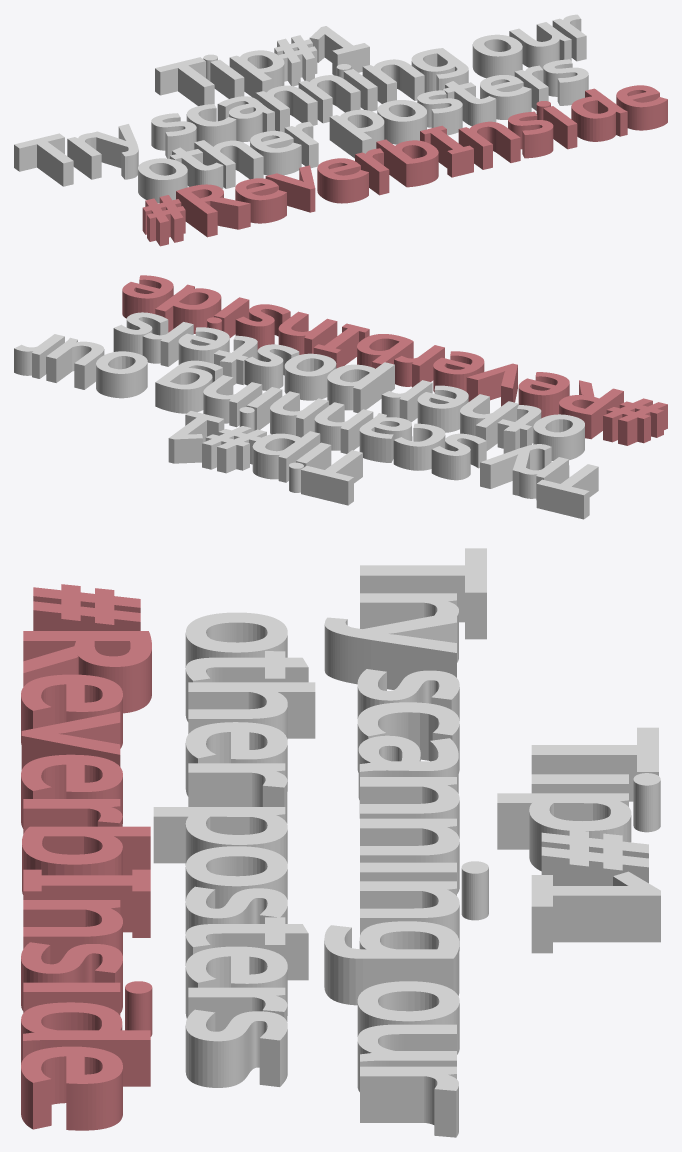
File: asset.glb
The picture shows the model from 3 angles, top to bottom: view 1: azimuth 30°, elevation 25°; view 2: azimuth 150°, elevation 25°; view 3: azimuth 270°, elevation 25°; orthographic projection. The views are drawn at different scales.
Visible parts, largest first — view 1: 3D_Text_-_e (×3), 3D_Text_1_-_n (×3), 3D_Text_1_-_o (×3), 3D_Text_1_-_s (×3), 3D_Text_1_-_T (×2), 3D_Text_1_-_p (×2), 3D_Text_1_-_r (×4), 3D_Text_1_-_e (×2), 3D_Text_-_R, 3D_Text_1_-_t (×2), 3D_Text_-_b, 3D_Text_-_d (+16 smaller); view 2: 3D_Text_1_-_o (×3), 3D_Text_1_-_n (×3), 3D_Text_1_-_s (×3), 3D_Text_1_-_r (×4), 3D_Text_1_-_p (×2), 3D_Text_-_e (×3), 3D_Text_1_-_T (×2), 3D_Text_1_-_e (×2), 3D_Text_1_-_t (×2), 3D_Text_1_-_g, 3D_Text_-_, 3D_Text_1_-_ (+16 smaller); view 3: 3D_Text_-_e (×3), 3D_Text_1_-_r (×4), 3D_Text_1_-_s (×3), 3D_Text_1_-_n (×3), 3D_Text_1_-_o (×3), 3D_Text_1_-_p (×2), 3D_Text_1_-_T (×2), 3D_Text_1_-_g, 3D_Text_1_-_1, 3D_Text_1_-_e (×2), 3D_Text_1_-_y, 3D_Text_1_-_t (×2) (+16 smaller).
Boxes of the visible parts, bbox=[...] form: 3D_Text_-_e (×3): bbox=[235, 85, 667, 223]; 3D_Text_1_-_n (×3): bbox=[255, 59, 424, 132]; 3D_Text_1_-_o (×3): bbox=[138, 34, 522, 203]; 3D_Text_1_-_s (×3): bbox=[151, 59, 588, 158]; 3D_Text_1_-_T (×2): bbox=[14, 57, 214, 186]; 3D_Text_1_-_p (×2): bbox=[229, 50, 384, 158]; 3D_Text_1_-_r (×4): bbox=[67, 14, 586, 179]; 3D_Text_1_-_e (×2): bbox=[250, 75, 531, 175]; 3D_Text_-_R: bbox=[176, 184, 250, 237]; 3D_Text_1_-_t (×2): bbox=[170, 81, 496, 188]; 3D_Text_-_b: bbox=[376, 139, 438, 187]; 3D_Text_-_d: bbox=[571, 88, 627, 141]; 3D_Text_1_-_o (×3): bbox=[96, 351, 584, 460]; 3D_Text_1_-_n (×3): bbox=[203, 375, 373, 453]; 3D_Text_1_-_s (×3): bbox=[113, 312, 486, 480]; 3D_Text_1_-_r (×4): bbox=[14, 322, 569, 499]; 3D_Text_1_-_p (×2): bbox=[252, 362, 394, 482]; 3D_Text_-_e (×3): bbox=[122, 275, 569, 418]; 3D_Text_1_-_T (×2): bbox=[301, 450, 598, 519]; 3D_Text_1_-_e (×2): bbox=[178, 327, 468, 432]; 3D_Text_1_-_t (×2): bbox=[214, 335, 541, 453]; 3D_Text_1_-_g: bbox=[155, 360, 222, 413]; 3D_Text_-_: bbox=[603, 398, 667, 445]; 3D_Text_1_-_: bbox=[202, 426, 266, 473]; 3D_Text_-_e (×3): bbox=[21, 674, 122, 1130]; 3D_Text_1_-_r (×4): bbox=[188, 593, 458, 1137]; 3D_Text_1_-_s (×3): bbox=[185, 669, 459, 1087]; 3D_Text_1_-_n (×3): bbox=[360, 777, 459, 950]; 3D_Text_1_-_o (×3): bbox=[185, 612, 459, 1054]; 3D_Text_1_-_p (×2): bbox=[153, 793, 631, 871]; 3D_Text_1_-_T (×2): bbox=[360, 548, 658, 801]; 3D_Text_1_-_g: bbox=[324, 921, 459, 1005]; 3D_Text_1_-_1: bbox=[531, 871, 660, 953]; 3D_Text_1_-_e (×2): bbox=[185, 722, 287, 1018]; 3D_Text_1_-_y: bbox=[324, 611, 456, 689]; 3D_Text_1_-_t (×2): bbox=[185, 651, 308, 980].
Size of the model in its own units: 374 by 17.28 by 186.
